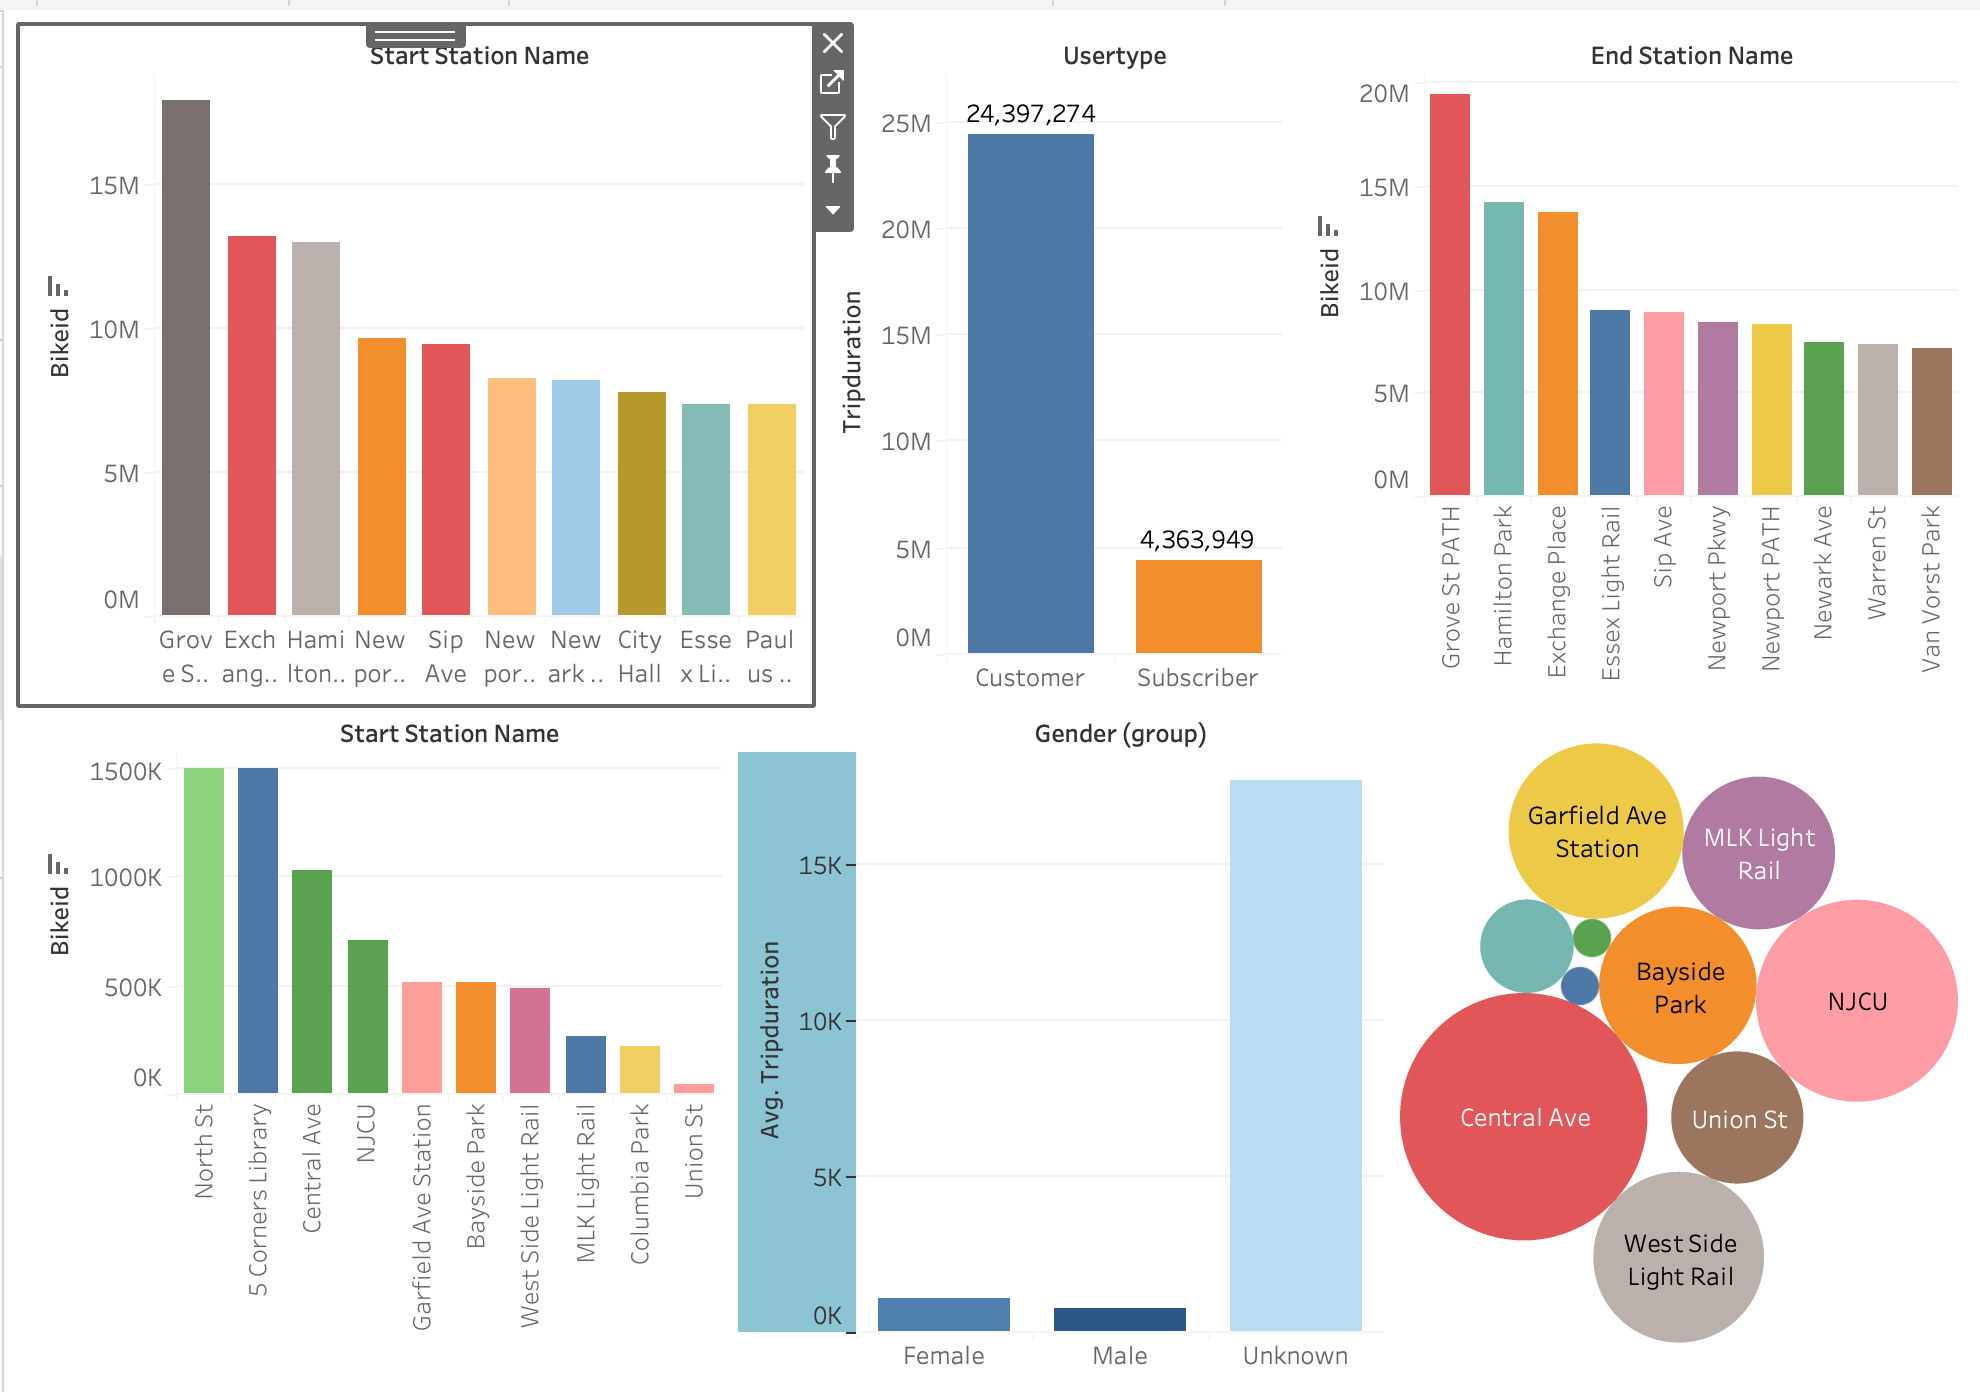

What the dashboard file says about the page in this screenshot:
{"tool":"tableau","page":{"name":"Dashboard 1","canvas":[1000,1000],"units":"permille","ordinal":0},"visuals":[{"type":"worksheet","title":"Top 10 for starting a journey","mark":"Automatic","rows":["bikeid"],"cols":["start station name"],"box":[8.1,11.5,399.2,488.5]},{"type":"worksheet","title":"Trip by Usertype","mark":"Automatic","rows":["tripduration"],"cols":["usertype"],"box":[407.2,11.5,240.9,488.5]},{"type":"worksheet","title":"Top 10 for ending a journey","mark":"Automatic","rows":["bikeid"],"cols":["end station name"],"box":[648.2,11.5,343.7,488.5]},{"type":"worksheet","title":"Bottom 10 for starting a journey","mark":"Automatic","rows":["bikeid"],"cols":["start station name"],"box":[8.1,500,358.7,488.5]},{"type":"worksheet","title":"Trip by Gender","mark":"Automatic","rows":["tripduration"],"box":[366.8,500,335.9,488.5]},{"type":"worksheet","title":"Bottom 10 for ending a journey","mark":"Circle","box":[702.6,500,289.3,488.5]}]}

Visuals, with their boxes on the dashboard's canvas, which has no fixed pixel size, in thousandths of its width and height (x1, y1, x2, y2). These are canvas units, not pixel positions in the 1980x1392 screenshot, which may show the page scaled, cropped or inside an application window:
"Top 10 for starting a journey" worksheet: (left=8, top=12, right=407, bottom=500)
"Trip by Usertype" worksheet: (left=407, top=12, right=648, bottom=500)
"Top 10 for ending a journey" worksheet: (left=648, top=12, right=992, bottom=500)
"Bottom 10 for starting a journey" worksheet: (left=8, top=500, right=367, bottom=988)
"Trip by Gender" worksheet: (left=367, top=500, right=703, bottom=988)
"Bottom 10 for ending a journey" worksheet (Circle marks): (left=703, top=500, right=992, bottom=988)
